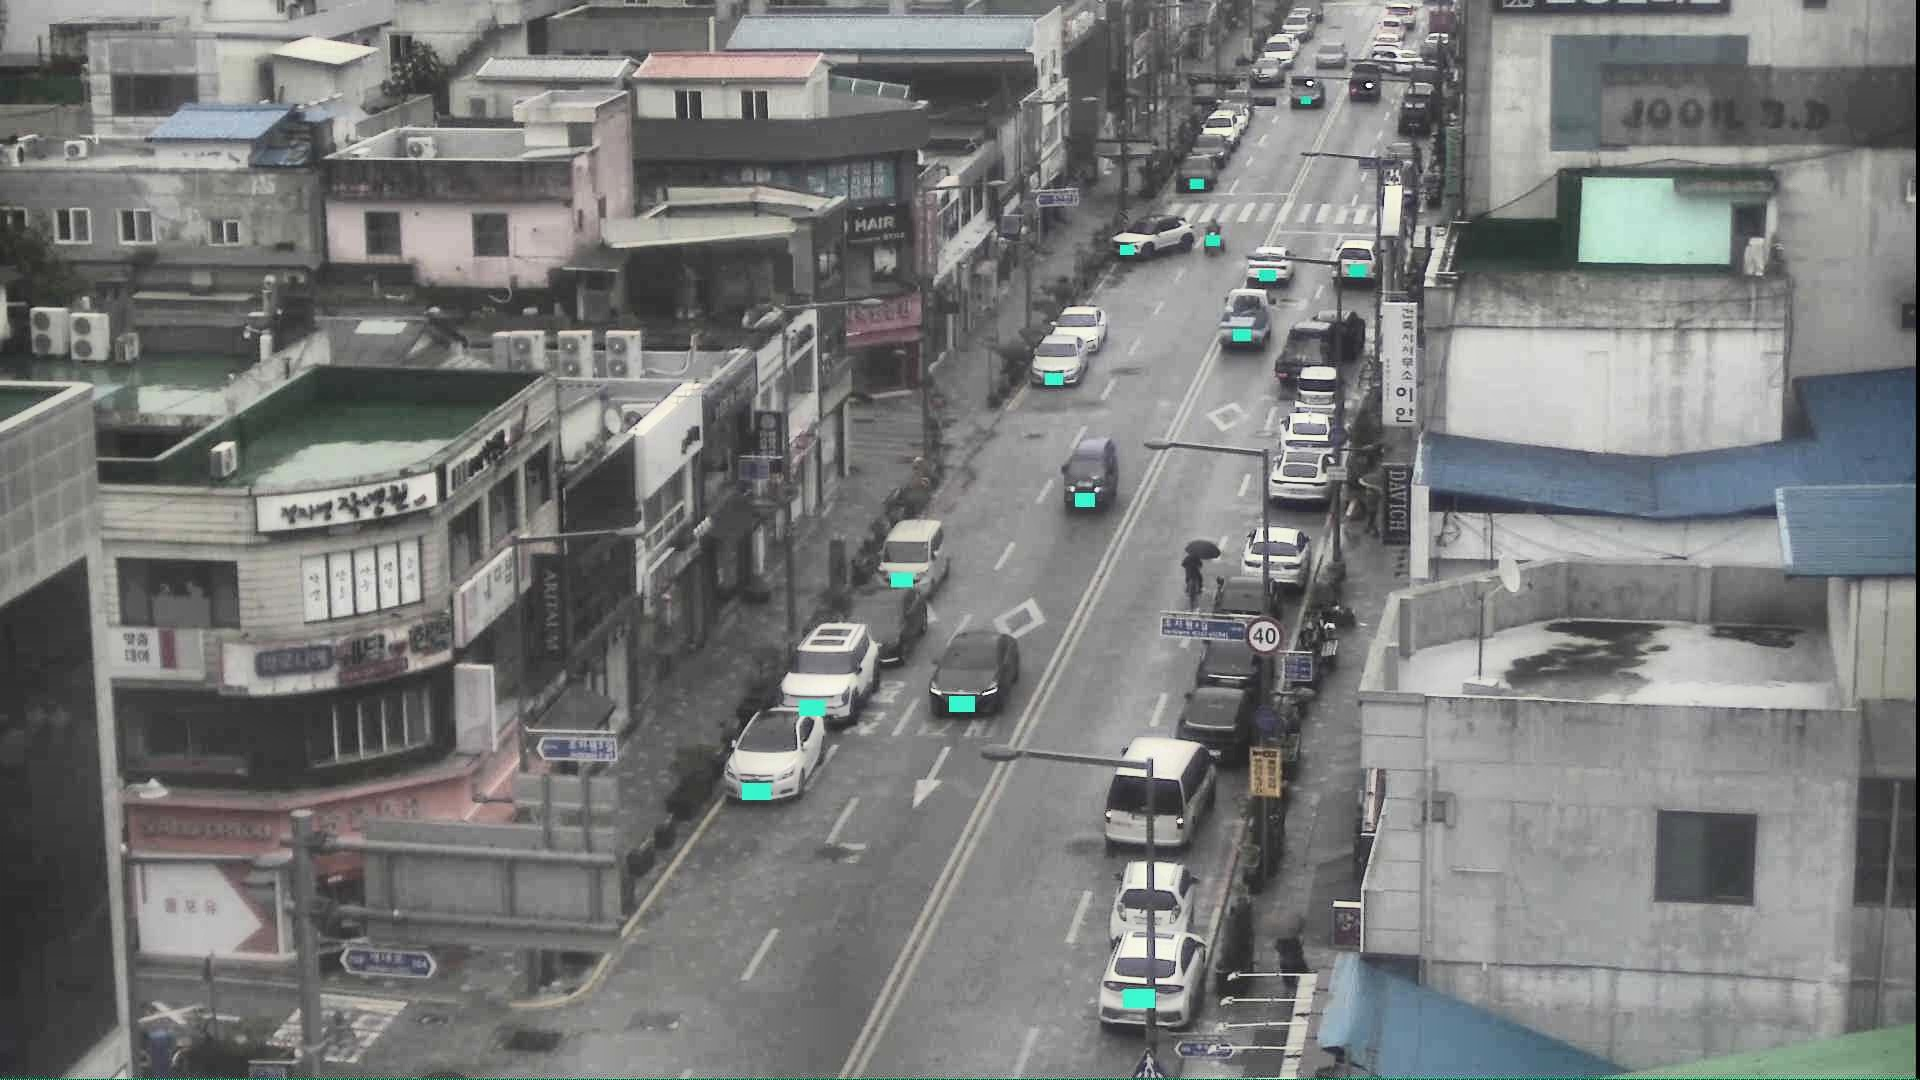um_jaywalk: (1180, 539, 1222, 593)
um_sidewalk: (1265, 907, 1316, 1000), (1356, 469, 1385, 537)
